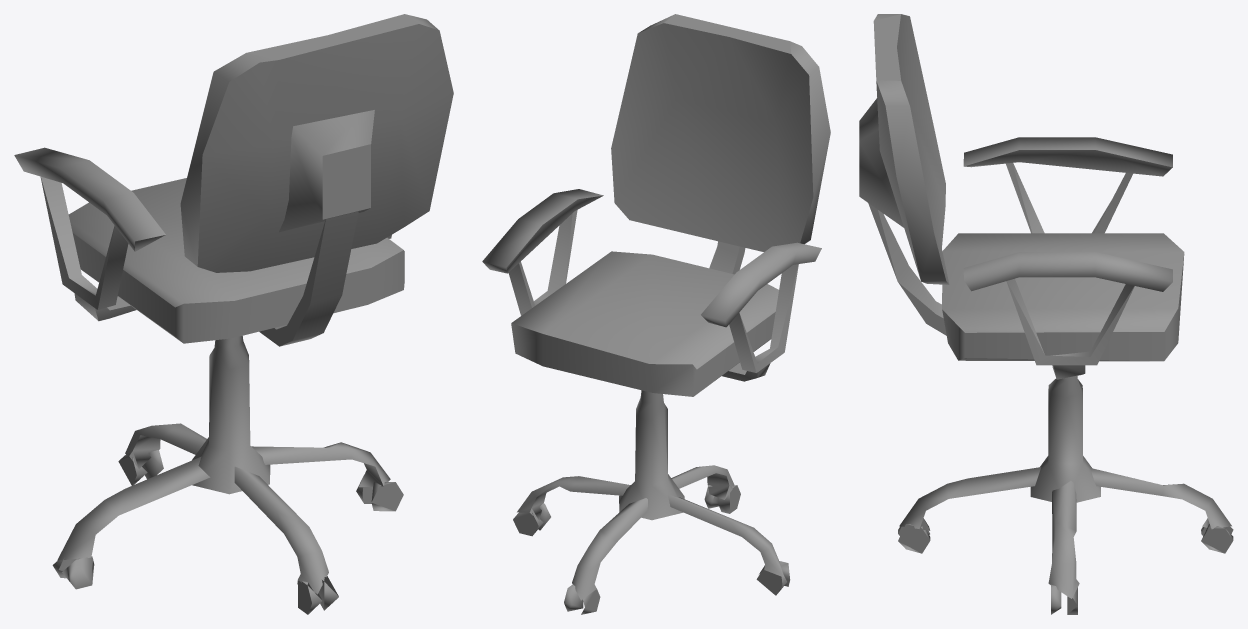
Rendered from OfficeChair_01_snaps001.fbx.
3 renders of one model, left to right at view 1: azimuth 30°, elevation 25°; view 2: azimuth 150°, elevation 25°; view 3: azimuth 270°, elevation 25°, orthographic. The views are drawn at different scales.
Parts seen in each view (by area): view 1: OfficeChair_01_snaps001; view 2: OfficeChair_01_snaps001; view 3: OfficeChair_01_snaps001.
Part boxes in pixels (left/top/right/bottom): OfficeChair_01_snaps001: left=14, top=14, right=453, bottom=614; OfficeChair_01_snaps001: left=482, top=14, right=830, bottom=614; OfficeChair_01_snaps001: left=859, top=14, right=1233, bottom=614.
Size of the model in its own units: 0.676 by 1.12 by 0.754.
1 material, 1 textured.
